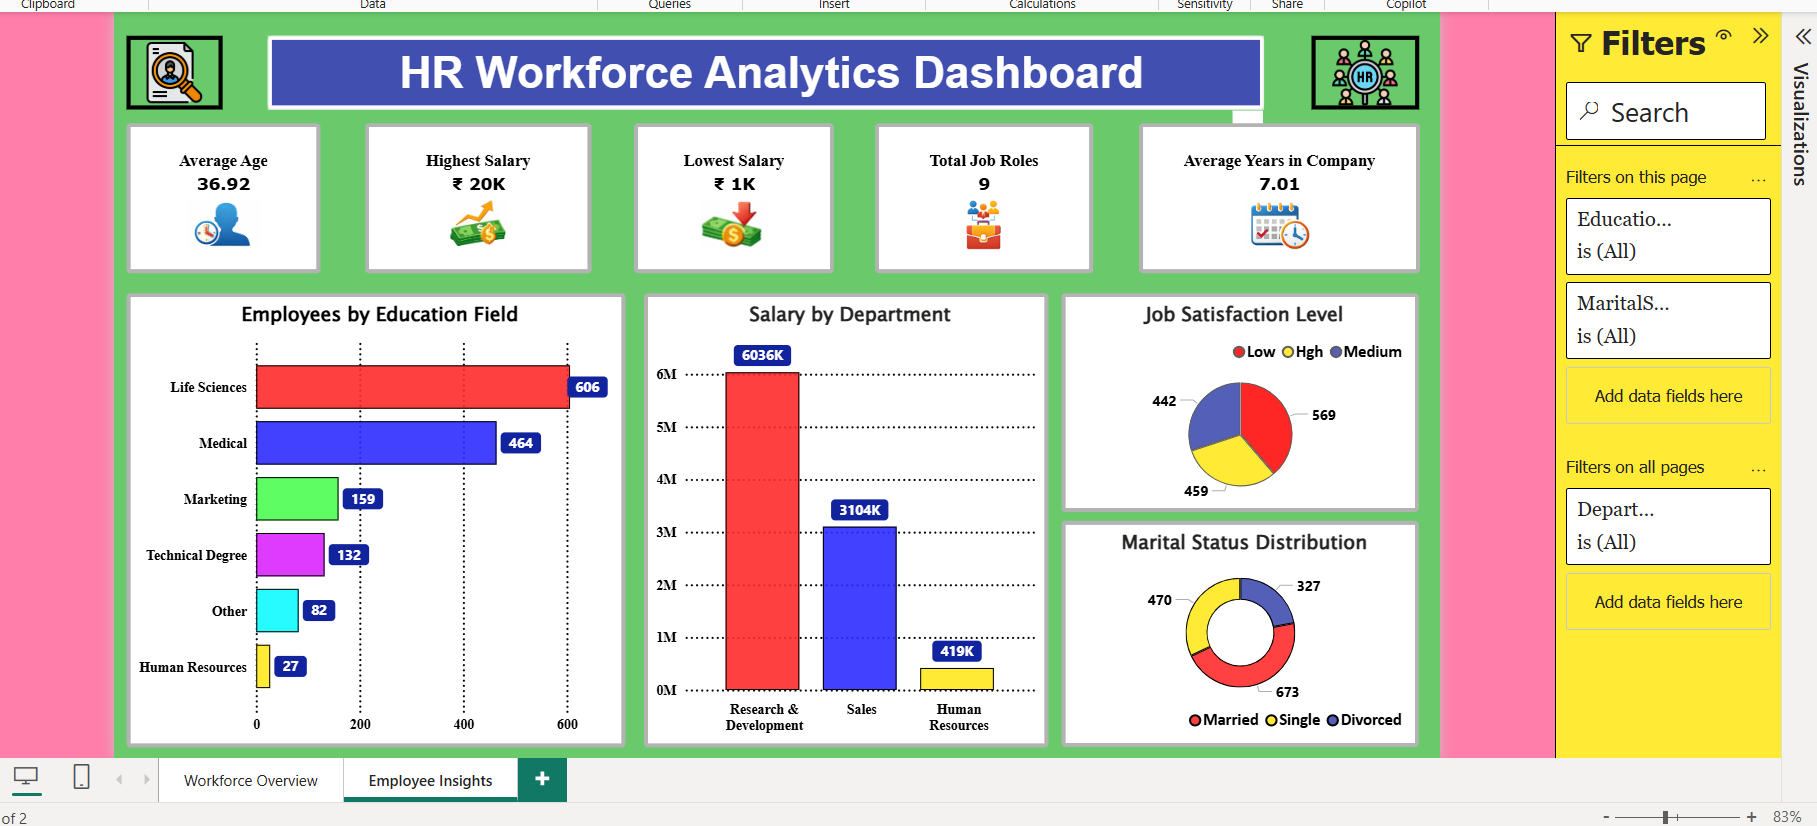

This screenshot's page, from the dashboard's own definition file:
{"tool":"powerbi","page":{"name":"Employee Insights","canvas":[1280,720],"ordinal":1},"visuals":[{"type":"textbox","box":[148.8,22.5,961.2,71.2],"z":0},{"type":"cardVisual","fields":{"Data":["Min(HR Analytics Data.MonthlyIncome)"]},"box":[501.9,107.4,193,144.8],"z":1000},{"type":"cardVisual","fields":{"Data":["Avg(HR Analytics Data.Age)"]},"box":[12.5,107.5,187.5,145],"z":2000},{"type":"cardVisual","fields":{"Data":["Max(HR Analytics Data.MonthlyIncome)"]},"box":[242.5,107.4,218.4,144.8],"z":3000},{"type":"cardVisual","fields":{"Data":["Count(HR Analytics Data.JobRole)"]},"box":[735,107.5,210,145],"z":4000},{"type":"cardVisual","fields":{"Data":["Avg(HR Analytics Data.YearsAtCompany)"]},"box":[988.8,107.5,271.2,145],"z":5000},{"type":"image","box":[12.5,22.5,92.5,71.2],"z":6000},{"type":"image","box":[1156.2,22.5,103.8,71.2],"z":7000},{"type":"columnChart","title":"Salary by Department","fields":{"Category":["HR Analytics Data.Department"],"Y":["Sum(HR Analytics Data.MonthlyIncome)"]},"box":[511.2,271.2,390,438.8],"z":8000},{"type":"donutChart","title":"Marital Status Distribution","fields":{"Category":["HR Analytics Data.MaritalStatus"],"Y":["Count(HR Analytics Data.EmployeeNumber)"]},"box":[915,491.2,345,218.8],"z":9000},{"type":"pieChart","title":"Job Satisfaction Level","fields":{"Y":["CountNonNull(HR Analytics Data.EmployeeNumber)"],"Category":["HR Analytics Data.Job satisfaction"]},"box":[915,271.2,345,211.2],"z":10000},{"type":"barChart","title":"Employees by Education Field","fields":{"Y":["CountNonNull(HR Analytics Data.EmployeeNumber)"],"Category":["HR Analytics Data.EducationField"]},"box":[12.5,271.2,481.2,438.8],"z":11000}]}

Visuals, with their boxes on the page's 1280x720 design canvas (x1, y1, x2, y2). These are canvas units, not pixel positions in the 1817x826 screenshot, which may show the page scaled, cropped or inside an application window:
textbox: 149:22:1110:94
cardVisual - Min(HR Analytics Data.MonthlyIncome): 502:107:695:252
cardVisual - Avg(HR Analytics Data.Age): 12:108:200:252
cardVisual - Max(HR Analytics Data.MonthlyIncome): 242:107:461:252
cardVisual - Count(HR Analytics Data.JobRole): 735:108:945:252
cardVisual - Avg(HR Analytics Data.YearsAtCompany): 989:108:1260:252
image: 12:22:105:94
image: 1156:22:1260:94
"Salary by Department" columnChart: 511:271:901:710
"Marital Status Distribution" donutChart: 915:491:1260:710
"Job Satisfaction Level" pieChart: 915:271:1260:482
"Employees by Education Field" barChart: 12:271:494:710
